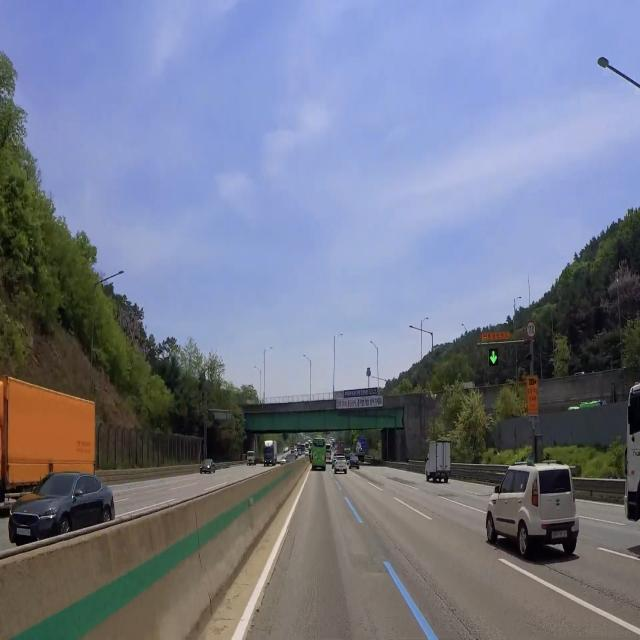car: (13, 526, 34, 539), (551, 527, 570, 541)
